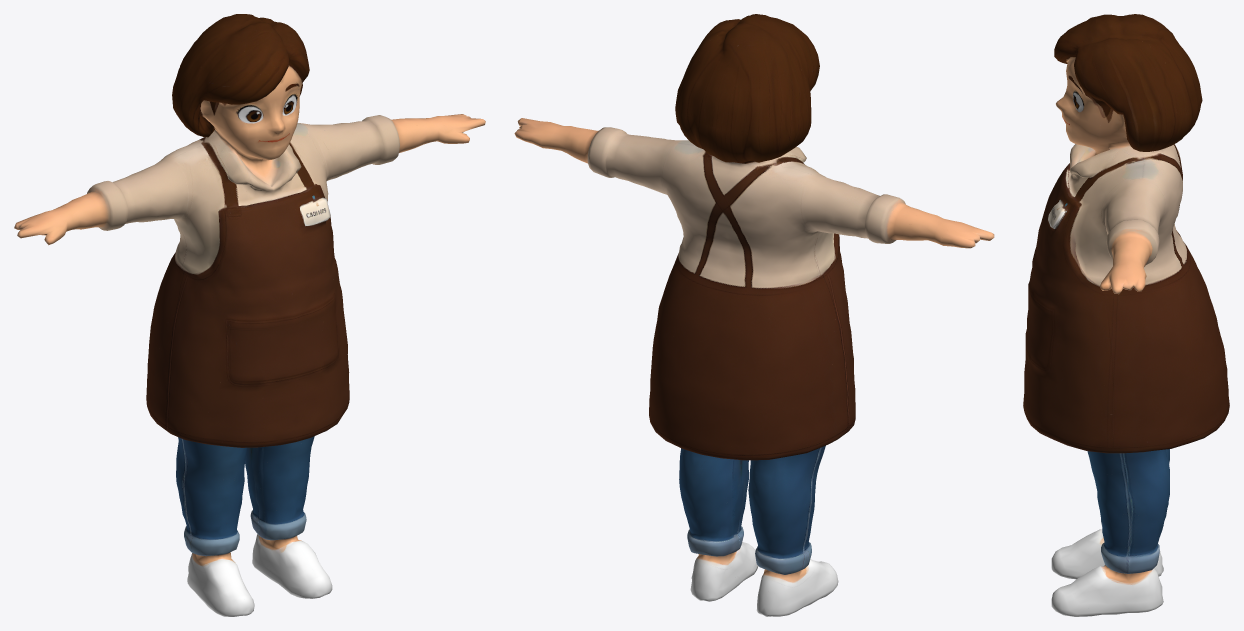
Rendered from Meshy_AI_Open_Arms_Cashier_0531140609_texture.fbx.
3 views of the same model, side by side, from view 1: azimuth 30°, elevation 25°; view 2: azimuth 150°, elevation 25°; view 3: azimuth 270°, elevation 25° (orthographic).
Visible parts, largest first — view 1: Mesh_0; view 2: Mesh_0; view 3: Mesh_0.
Part boxes in pixels (x1,y1,x2,y2): Mesh_0: [14, 14, 485, 616]; Mesh_0: [514, 14, 994, 616]; Mesh_0: [1023, 14, 1229, 616].
Size of the model in its own units: 166 by 191 by 62.23.
Materials: 1 (1 with a texture image).
